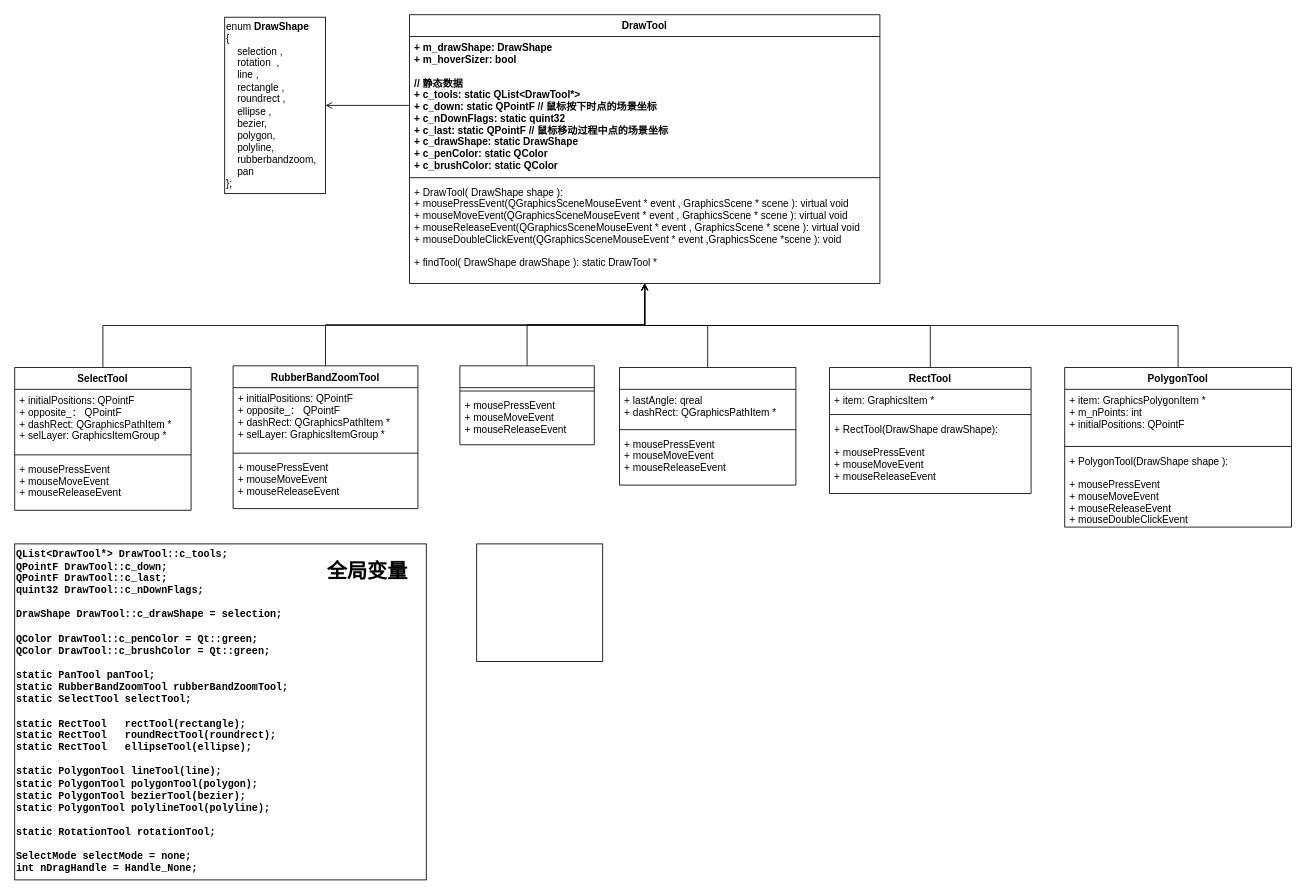
Image size: 1306x895. Some labels were removed from this diagram. Here are the shapes that lost their labels. From the top down, the box of each, then its label:
(459, 365, 594, 445): PanTool
(619, 367, 796, 485): RotationTool
(476, 543, 603, 662): enum SelectMode { none, netSelect, move, size, rotate, editor, };
